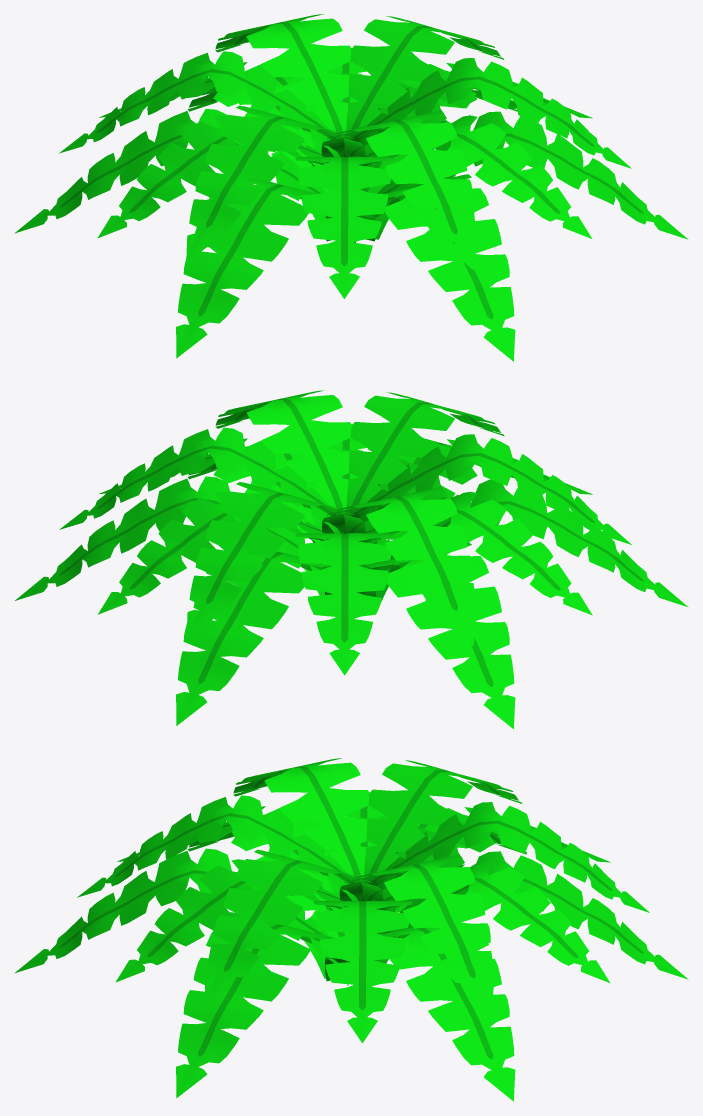
File: Foliage_Bush_0.fbx
3 views of the same model, one above another, from view 1: azimuth 30°, elevation 25°; view 2: azimuth 150°, elevation 25°; view 3: azimuth 270°, elevation 25° (orthographic).
Parts seen in each view (by area): view 1: Bush_0; view 2: Bush_0; view 3: Bush_0.
Part boxes in pixels (bbox=[...]): Bush_0: bbox=[14, 14, 688, 361]; Bush_0: bbox=[15, 390, 688, 728]; Bush_0: bbox=[14, 758, 688, 1101].
Size of the model in its own units: 170 by 50.19 by 194.
